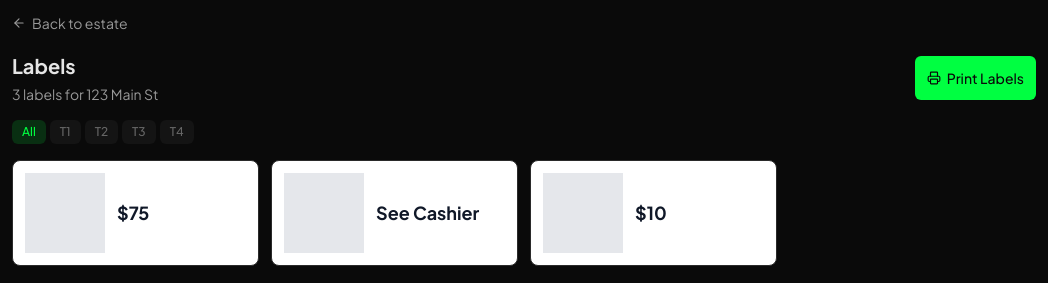
it: LabelsView › updates label count when filtering
Click the button "T2": {"x": 101, "y": 132} [85, 120, 118, 144]
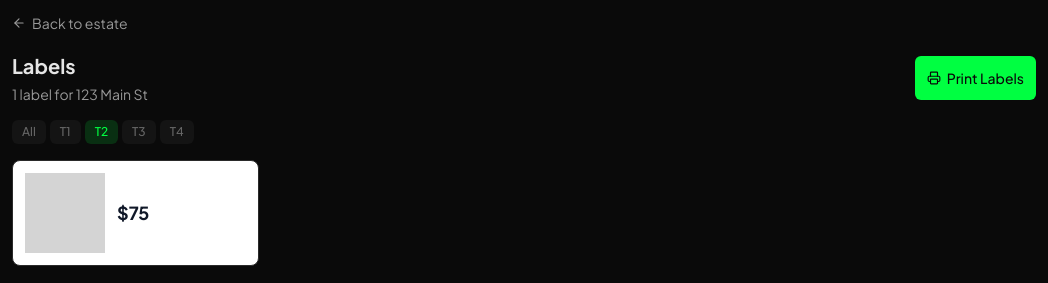
Check: the text "1 label for 123 Main St" is shown, box [12, 84, 148, 104]
